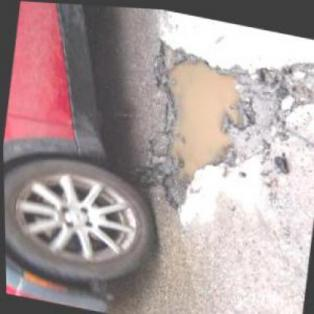Hueco: (130, 32, 254, 219)
